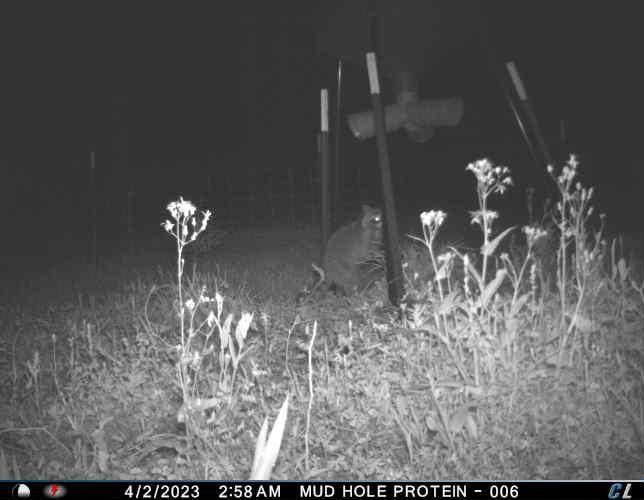Raccoon: (294, 206, 389, 297)
